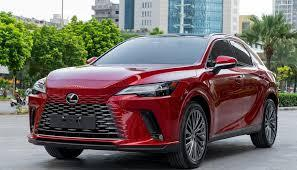lexus: (61, 88, 87, 107)
